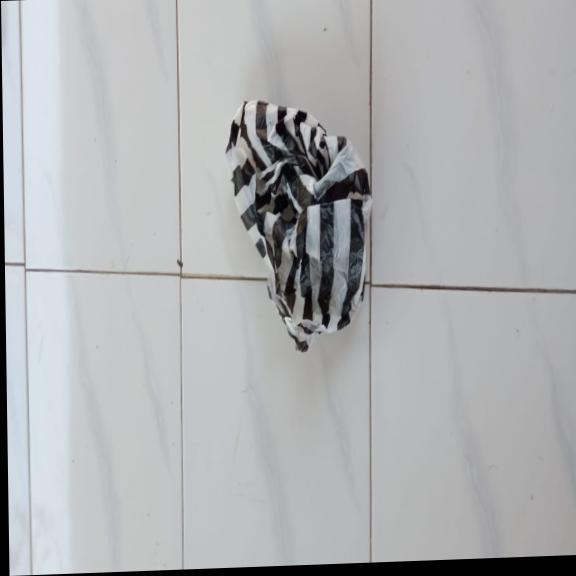Plastik: (222, 93, 373, 358)
